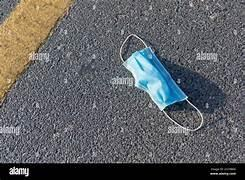Mask: (120, 34, 202, 130)
